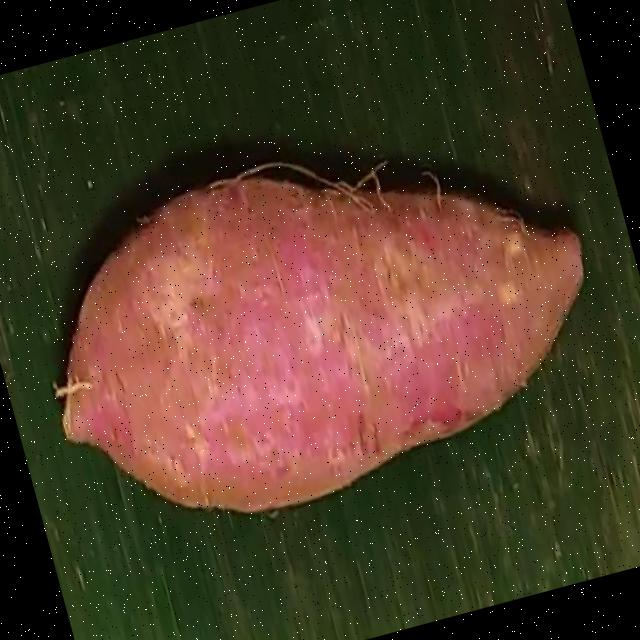Sweet Potato: (62, 175, 584, 516)
